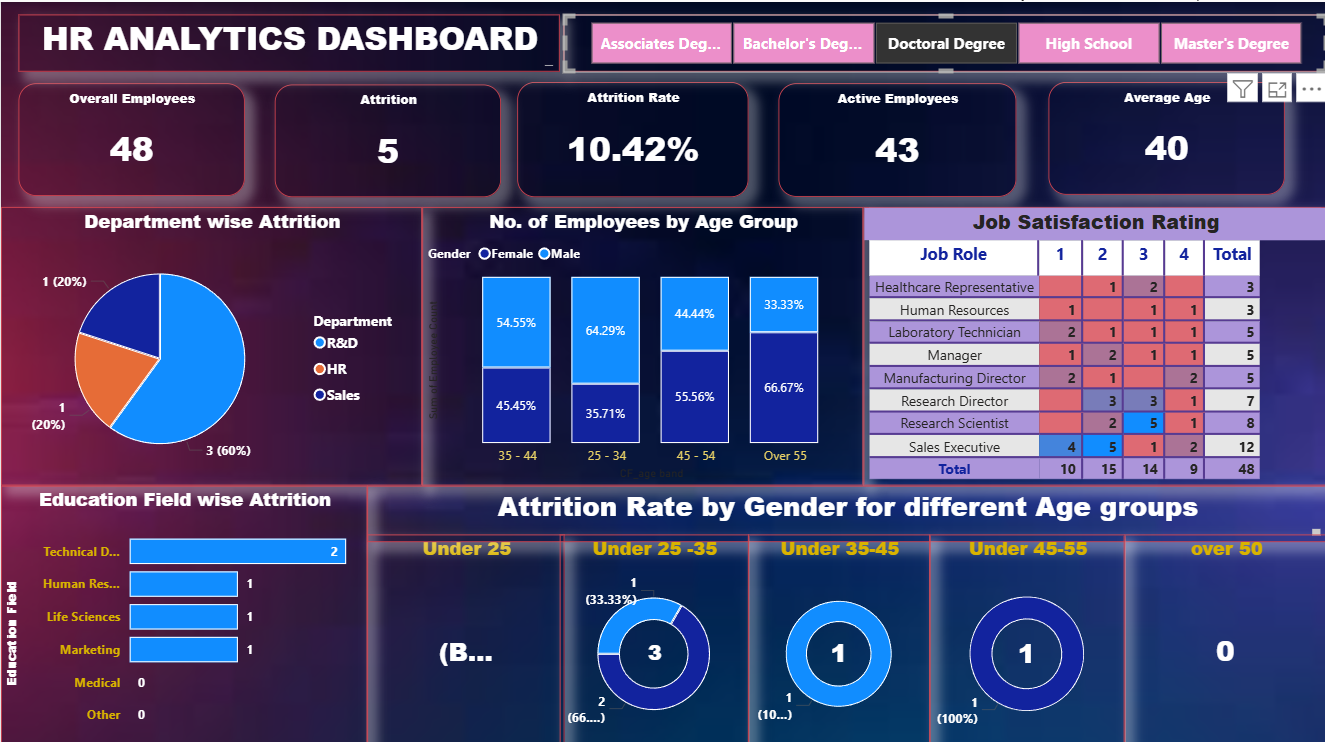

Layout of this report page (visuals, bound fields, positions):
{"tool":"powerbi","page":{"name":"Page 1","canvas":[1280,720],"ordinal":0},"visuals":[{"type":"card","title":"Overall Employees","fields":{"Values":["Sum(Table_1.Employee Count)"]},"box":[16.9,78.4,218.4,108.6],"z":0},{"type":"card","title":"Attrition","fields":{"Values":["Sum(Table_1.Attrition Count)"]},"box":[264.2,79.6,218.4,108.6],"z":1000},{"type":"card","title":"Attrition Rate ","fields":{"Values":["Table_1.Attrition Rate"]},"box":[498.3,77.2,223.2,111],"z":2000},{"type":"card","title":"Active Employees","fields":{"Values":["Table_1.Active Employees"]},"box":[750.4,78.4,229.2,109.8],"z":3000},{"type":"card","title":"Average Age","fields":{"Values":["Avg(Table_1.Age)"]},"box":[1011,77.2,228,108.6],"z":4000},{"type":"pieChart","title":"Department wise Attrition","fields":{"Category":["Table_1.Department"],"Y":["Sum(Table_1.Attrition Count)"]},"box":[0,197.9,406.6,269],"z":5000},{"type":"hundredPercentStackedColumnChart","title":"No. of Employees by Age Group","fields":{"Category":["Table_1.CF_age band"],"Y":["Sum(Table_1.Employee Count)"],"Series":["Table_1.Gender"]},"box":[406.6,197.9,425.9,269],"z":6000},{"type":"pivotTable","title":"Job Satisfaction Rating","fields":{"Rows":["Table_1.Job Role"],"Columns":["Table_1.Job Satisfaction"],"Values":["Sum(Table_1.Employee Count)"]},"box":[832.4,197.9,447.6,269],"z":7000},{"type":"barChart","title":"Education Field wise Attrition","fields":{"Category":["Table_1.Education Field"],"Y":["Sum(Table_1.Attrition Count)"]},"box":[0,466.9,353.5,253.4],"z":8000},{"type":"donutChart","title":"Under 25","fields":{"Category":["Table_1.Gender"],"Y":["Sum(Table_1.Attrition Count)"],"Series":["Table_1.CF_age band"]},"box":[353.5,513.9,190.6,206.3],"z":9000},{"type":"textbox","title":"Attrition Rate by Gender for different Age groups","box":[353.5,466.9,926.5,54.3],"z":10000},{"type":"donutChart","title":"Under 35-45","fields":{"Category":["Table_1.Gender"],"Y":["Sum(Table_1.Attrition Count)"],"Series":["Table_1.CF_age band"]},"box":[721.5,513.9,174.9,206.3],"z":11000},{"type":"donutChart","title":"Under 25 -35","fields":{"Category":["Table_1.Gender"],"Y":["Sum(Table_1.Attrition Count)"],"Series":["Table_1.CF_age band"]},"box":[539.3,513.9,182.2,206.3],"z":12000},{"type":"donutChart","title":"over 50","fields":{"Category":["Table_1.Gender"],"Y":["Sum(Table_1.Attrition Count)"],"Series":["Table_1.CF_age band"]},"box":[1084.6,513.9,195.4,206.3],"z":13000},{"type":"donutChart","title":"Under 45-55","fields":{"Category":["Table_1.Gender"],"Y":["Sum(Table_1.Attrition Count)"],"Series":["Table_1.CF_age band"]},"box":[896.4,513.9,188.2,206.3],"z":14000},{"type":"card","fields":{"Values":["Sum(Table_1.Attrition Count)"]},"box":[417.4,599.6,62.7,57.9],"z":15000},{"type":"card","fields":{"Values":["Sum(Table_1.Attrition Count)"]},"box":[596,599.6,70,59.1],"z":16000},{"type":"card","fields":{"Values":["Sum(Table_1.Attrition Count)"]},"box":[951.9,593.6,76,72.4],"z":17000},{"type":"card","fields":{"Values":["Sum(Table_1.Attrition Count)"]},"box":[1149.7,593.6,63.9,67.6],"z":18000},{"type":"card","fields":{"Values":["Sum(Table_1.Attrition Count)"]},"box":[764.9,610.5,88.1,37.4],"z":19000},{"type":"textbox","title":"HR ANALYTICS DASHBOARD","box":[16.9,12.1,522.4,55.5],"z":20000},{"type":"slicer","fields":{"Values":["Table_1.Education"]},"box":[542.9,12.1,737.1,55.5],"z":21000}]}

Visuals, with their boxes in screenshot pixels (x1, y1, x2, y2), scaled from the page's 1280x720 canvas onto the 1325x742 screenshot:
"Overall Employees" card: 17/81/244/193
"Attrition" card: 273/82/500/194
"Attrition Rate " card: 516/80/747/194
"Active Employees" card: 777/81/1014/194
"Average Age" card: 1047/80/1283/191
"Department wise Attrition" pieChart: 0/204/421/481
"No. of Employees by Age Group" hundredPercentStackedColumnChart: 421/204/862/481
"Job Satisfaction Rating" pivotTable: 862/204/1324/481
"Education Field wise Attrition" barChart: 0/481/366/741
"Under 25" donutChart: 366/530/563/741
"Attrition Rate by Gender for different Age groups" textbox: 366/481/1324/537
"Under 35-45" donutChart: 747/530/928/741
"Under 25 -35" donutChart: 558/530/747/741
"over 50" donutChart: 1123/530/1324/741
"Under 45-55" donutChart: 928/530/1123/741
card - Sum(Table_1.Attrition Count): 432/618/497/678
card - Sum(Table_1.Attrition Count): 617/618/689/679
card - Sum(Table_1.Attrition Count): 985/612/1064/686
card - Sum(Table_1.Attrition Count): 1190/612/1256/681
card - Sum(Table_1.Attrition Count): 792/629/883/668
"HR ANALYTICS DASHBOARD" textbox: 17/12/558/70
slicer - Table_1.Education: 562/12/1324/70
